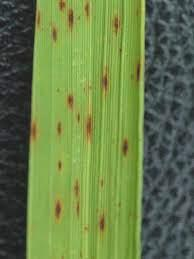0 BrownSpot: (98, 62, 118, 93), (117, 133, 132, 162), (108, 11, 124, 36), (96, 211, 112, 234), (61, 90, 78, 110), (52, 196, 64, 223), (27, 118, 40, 142), (84, 112, 95, 140), (71, 176, 83, 201), (48, 22, 60, 45), (134, 56, 142, 87), (63, 7, 75, 26), (83, 1, 94, 20), (35, 5, 43, 28), (97, 175, 107, 191), (56, 155, 64, 174), (55, 119, 63, 136), (74, 110, 82, 123), (57, 1, 67, 11)
